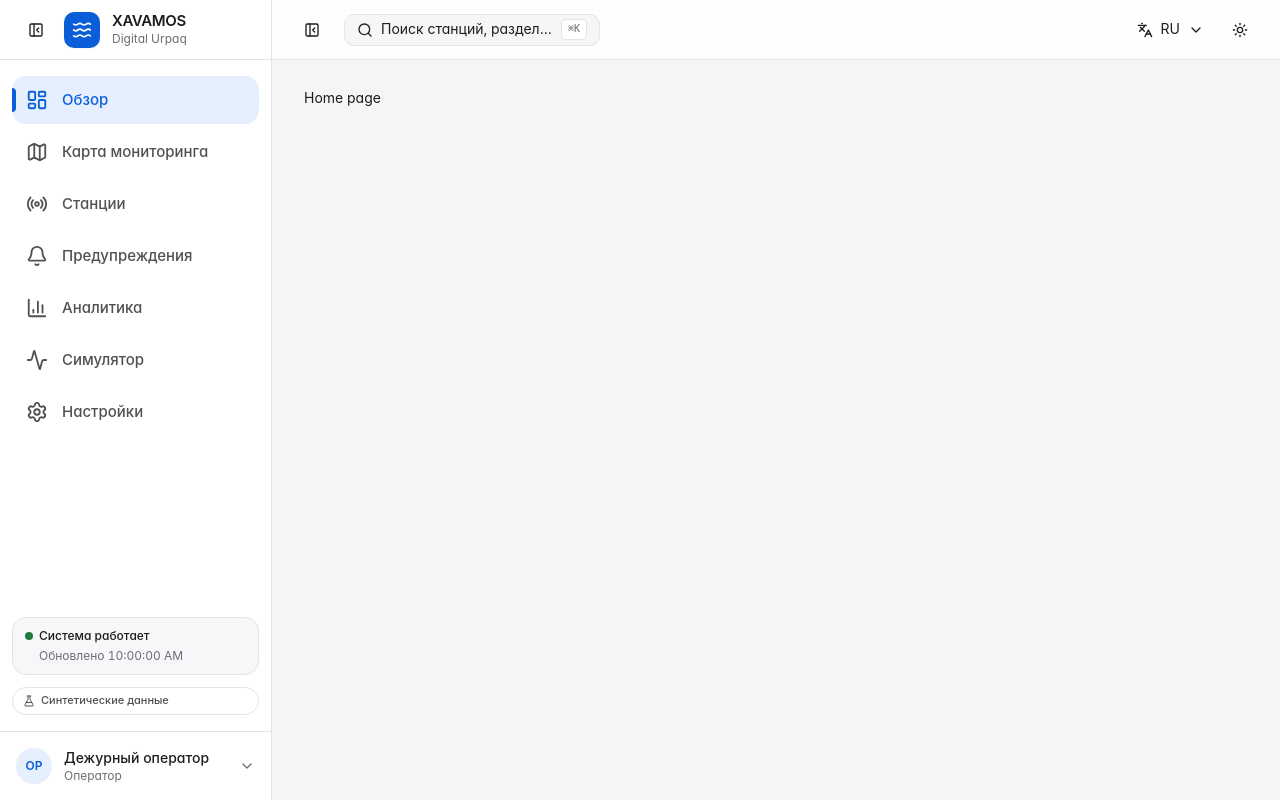
AppShell navigation › collapses the desktop sidebar and persists the choice
The width and height of the screenshot is (1280, 800).
Click the button named "Свернуть панель" next to "XAVAMOS" at (36,30), box [16,10,56,50]
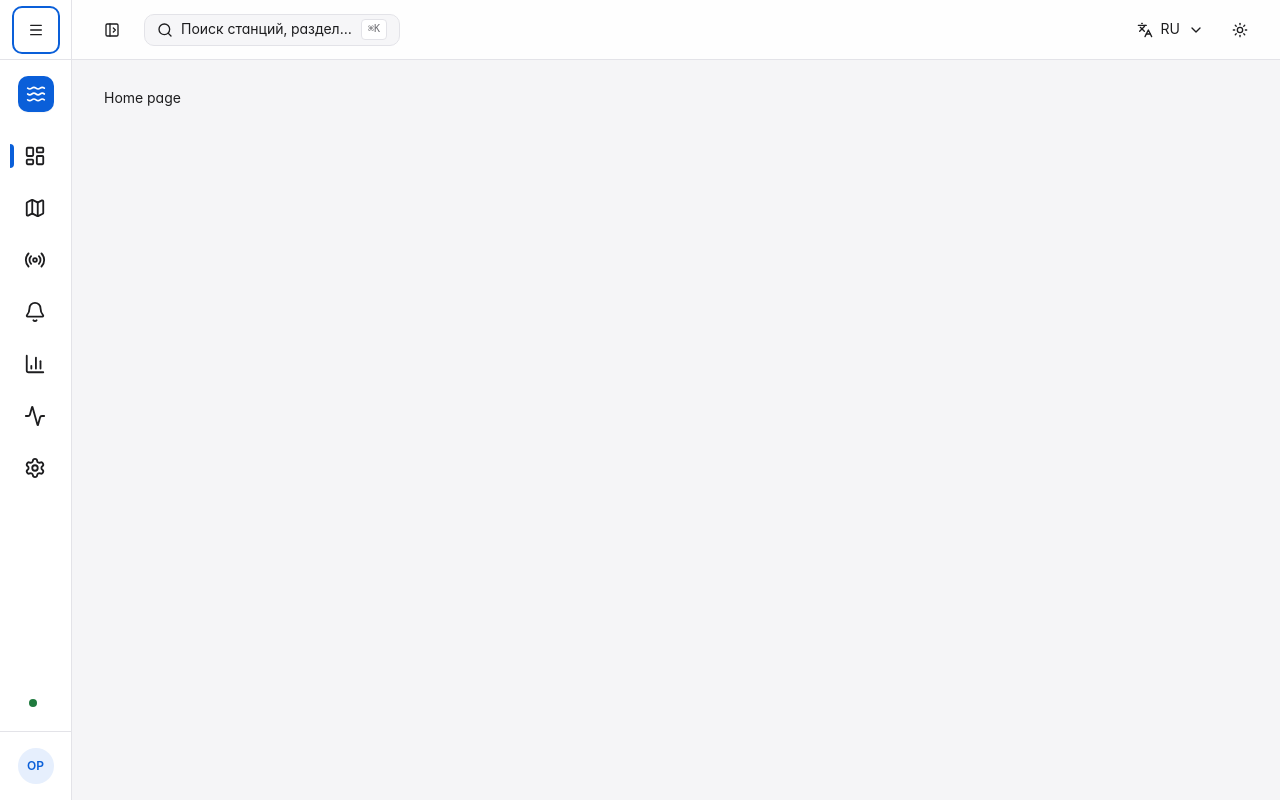
Now the 1st button named "Развернуть панель" is shown, box [16,10,56,50]
